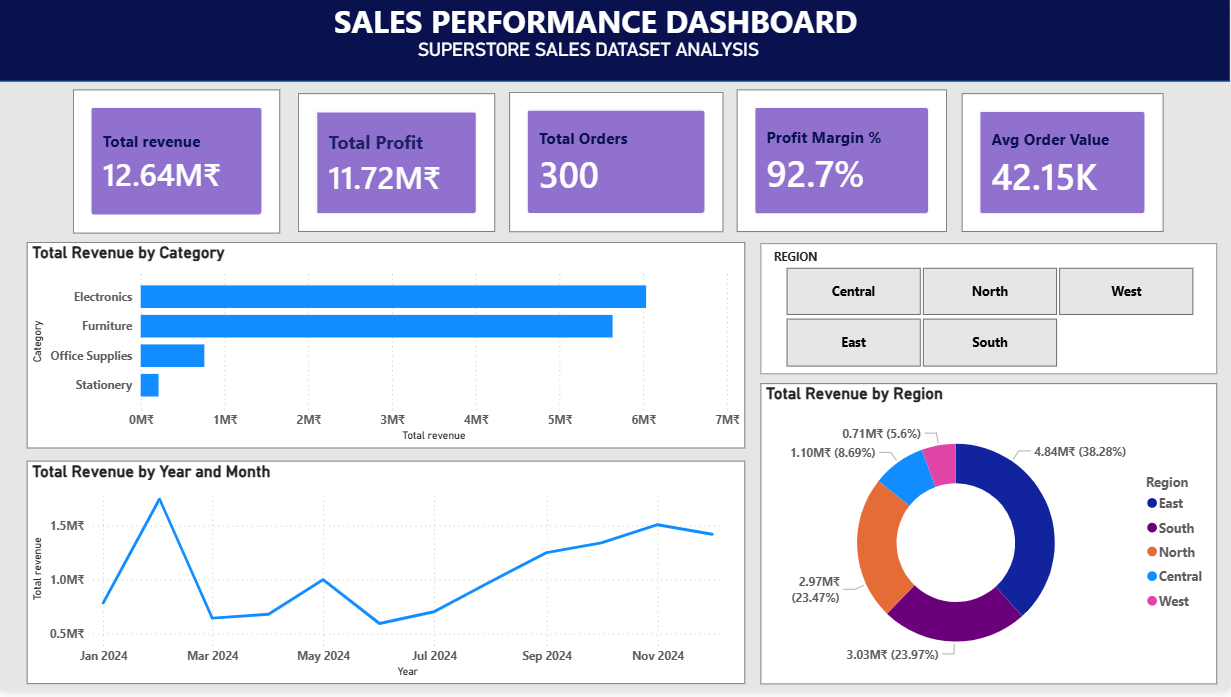

The dashboard page shown, as its layout file describes it:
{"tool":"powerbi","page":{"name":"SALES DASHBOARD","canvas":[1280,720],"ordinal":0},"visuals":[{"type":"cardVisual","fields":{"Data":["Sales Data.Total Profit"]},"box":[311.5,100.2,204.5,144.1],"z":0},{"type":"cardVisual","fields":{"Data":["Sales Data.Total Orders"]},"box":[531,98.8,222.3,145.5],"z":1000},{"type":"cardVisual","fields":{"Data":["Sales Data.Profit Margin %"]},"box":[767.1,96.1,218.2,148.2],"z":2000},{"type":"cardVisual","fields":{"Data":["Sales Data.Avg Order Value"]},"box":[1001.7,100.2,209.9,144.1],"z":3000},{"type":"clusteredBarChart","title":"Total Revenue by Category","fields":{"Category":["Sales Data.Category"],"Y":["Sales Data.total revenue"]},"box":[30.2,254.6,746.8,214],"z":4000},{"type":"donutChart","title":"Total Revenue by Region","fields":{"Category":["Sales Data.Region"],"Y":["Sales Data.total revenue"]},"box":[791.8,400.7,474.8,312.9],"z":5000},{"type":"lineChart","title":"Total Revenue by Year and Month","fields":{"Y":["Sales Data.total revenue"],"Category":["Sales Data.Date.Variation.Date Hierarchy.Year","Sales Data.Date.Variation.Date Hierarchy.Month"]},"box":[30.2,481.6,746.5,231.9],"z":6000},{"type":"shape","box":[0,0,1280,88.1],"z":7000},{"type":"textbox","title":"SALES PERFORMANCE DASHBOARD","box":[342.6,3.6,592.4,41],"z":8000},{"type":"textbox","title":"SUPERSTORE SALES DATASET ANALYSIS","box":[423.5,47.1,512.7,53.1],"z":9000},{"type":"cardVisual","fields":{"Data":["Sales Data.Total revenue"]},"box":[78.2,96.1,215.4,149.6],"z":10000},{"type":"slicer","fields":{"Values":["Sales Data.Region"]},"box":[791.8,255.2,474.8,135.8],"z":11000}]}

Visuals, with their boxes in screenshot pixels (x1, y1, x2, y2), scaled from the page's 1280x720 canvas onto the 1231x697 screenshot:
cardVisual - Sales Data.Total Profit: (300, 97, 496, 236)
cardVisual - Sales Data.Total Orders: (511, 96, 724, 236)
cardVisual - Sales Data.Profit Margin %: (738, 93, 948, 236)
cardVisual - Sales Data.Avg Order Value: (963, 97, 1165, 236)
"Total Revenue by Category" clusteredBarChart: (29, 246, 747, 454)
"Total Revenue by Region" donutChart: (761, 388, 1218, 691)
"Total Revenue by Year and Month" lineChart: (29, 466, 747, 691)
shape: (0, 0, 1230, 85)
"SALES PERFORMANCE DASHBOARD" textbox: (329, 3, 899, 43)
"SUPERSTORE SALES DATASET ANALYSIS" textbox: (407, 46, 900, 97)
cardVisual - Sales Data.Total revenue: (75, 93, 282, 238)
slicer - Sales Data.Region: (761, 247, 1218, 379)
